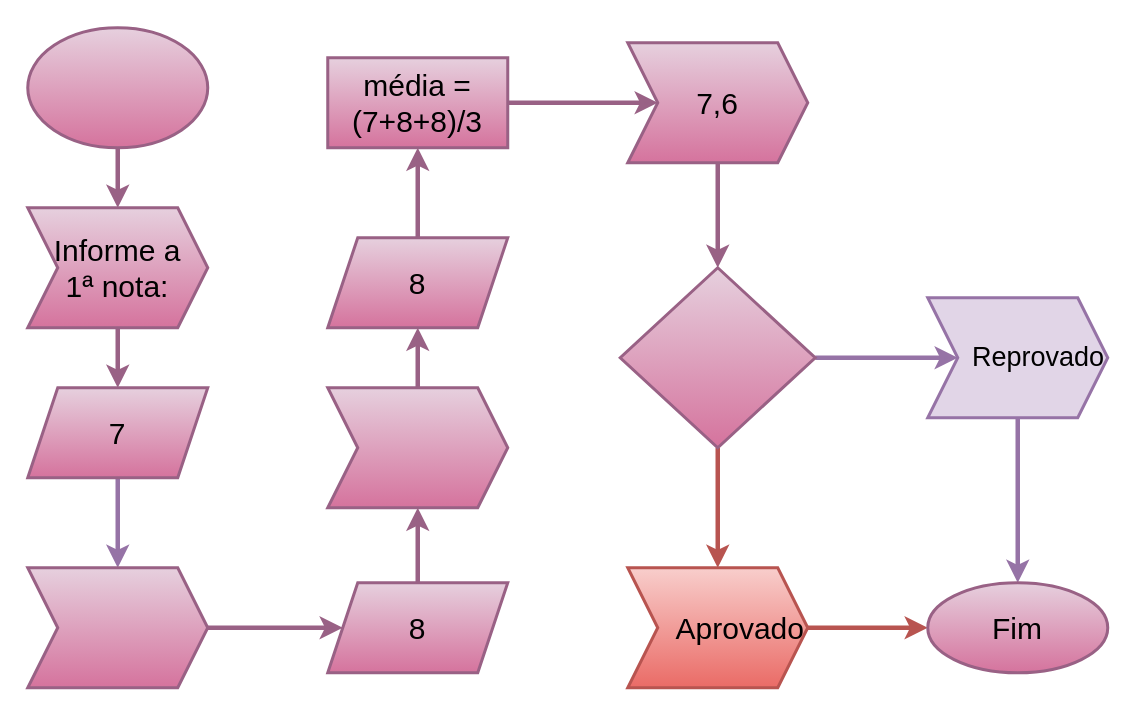
Some shapes in this 1134 by 714 pixel diagram are drawn without their labels. The shapes that lost their labels are listed below. From the top down, each one's box as (x1, y1, x2, y2) in pixels, then its label:
(26, 26, 208, 148): Início
(618, 266, 816, 448): A média é >= 7?
(326, 386, 508, 508): Informe a 3ª nota:
(26, 566, 208, 688): Informe a 2ª nota:
